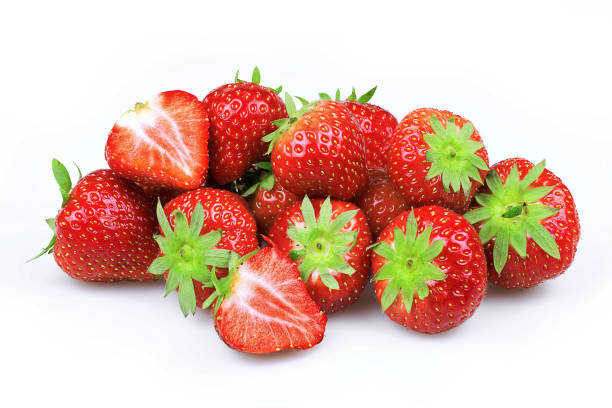Fresa: (472, 152, 583, 298), (378, 201, 490, 339), (49, 166, 168, 293), (211, 244, 333, 357), (265, 195, 375, 318), (155, 183, 264, 303), (99, 86, 214, 195), (266, 96, 375, 205), (387, 106, 492, 211), (199, 78, 292, 188)
